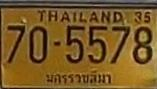0: (29, 25, 46, 63)
5: (87, 25, 106, 63), (65, 25, 84, 63)
7: (110, 25, 129, 63), (7, 24, 24, 63)
8: (132, 26, 151, 63)
NMA: (44, 69, 115, 86)
